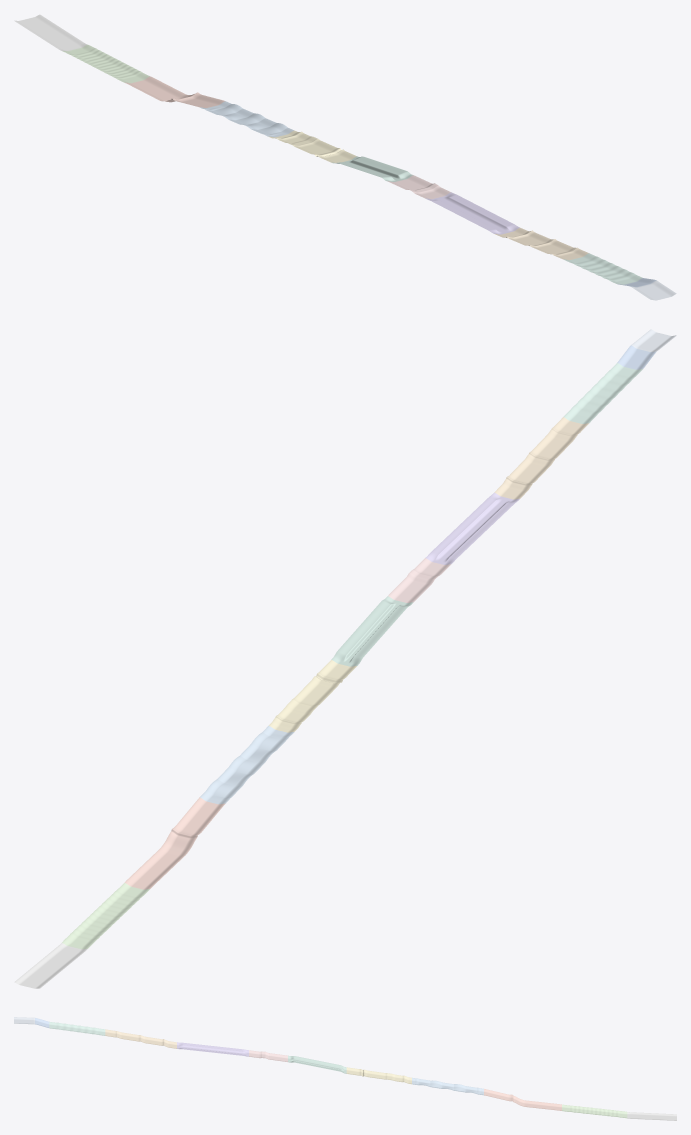
The model's file is olivers_peak.glb.
The picture shows the model from 3 angles, top to bottom: view 1: azimuth 30°, elevation 25°; view 2: azimuth 150°, elevation 25°; view 3: azimuth 270°, elevation 25°; orthographic projection. The views are drawn at different scales.
Visible parts, largest first — view 1: Halfpipe, Whoops, Bank slalom, Big air, Kicker line, Finish, Gaps, Rollers, Canyon, Table-top, Start; view 2: Big air, Kicker line, Bank slalom, Halfpipe, Gaps, Canyon, Whoops, Rollers, Finish, Table-top; view 3: Big air, Halfpipe, Bank slalom, Kicker line, Gaps, Whoops, Canyon, Rollers, Finish, Table-top.
Part boxes in pixels (box(x1,y1,x2,y2)): Halfpipe: box(425, 192, 519, 234); Whoops: box(62, 44, 149, 83); Bank slalom: box(200, 101, 293, 137); Big air: box(125, 76, 225, 107); Kicker line: box(495, 227, 588, 260); Finish: box(14, 14, 86, 51); Gaps: box(269, 130, 356, 162); Rollers: box(563, 253, 642, 284); Canyon: box(332, 156, 413, 181); Table-top: box(388, 175, 450, 199); Start: box(631, 280, 676, 300); Big air: box(124, 797, 225, 889); Kicker line: box(494, 417, 588, 499); Bank slalom: box(200, 725, 294, 804); Halfpipe: box(425, 492, 519, 564); Gaps: box(269, 660, 356, 732); Canyon: box(331, 596, 413, 666); Whoops: box(62, 883, 149, 949); Rollers: box(563, 363, 642, 423); Finish: box(14, 943, 87, 988); Table-top: box(388, 558, 450, 602); Big air: box(484, 1089, 561, 1110); Halfpipe: box(177, 1042, 248, 1056); Bank slalom: box(412, 1077, 483, 1095); Kicker line: box(105, 1029, 176, 1048); Gaps: box(346, 1067, 411, 1084); Whoops: box(562, 1104, 627, 1118); Canyon: box(288, 1055, 346, 1073); Rollers: box(49, 1021, 105, 1035); Finish: box(627, 1112, 676, 1120); Table-top: box(249, 1050, 287, 1062).
Size of the model in its own units: 120 by 828 by 5080.
